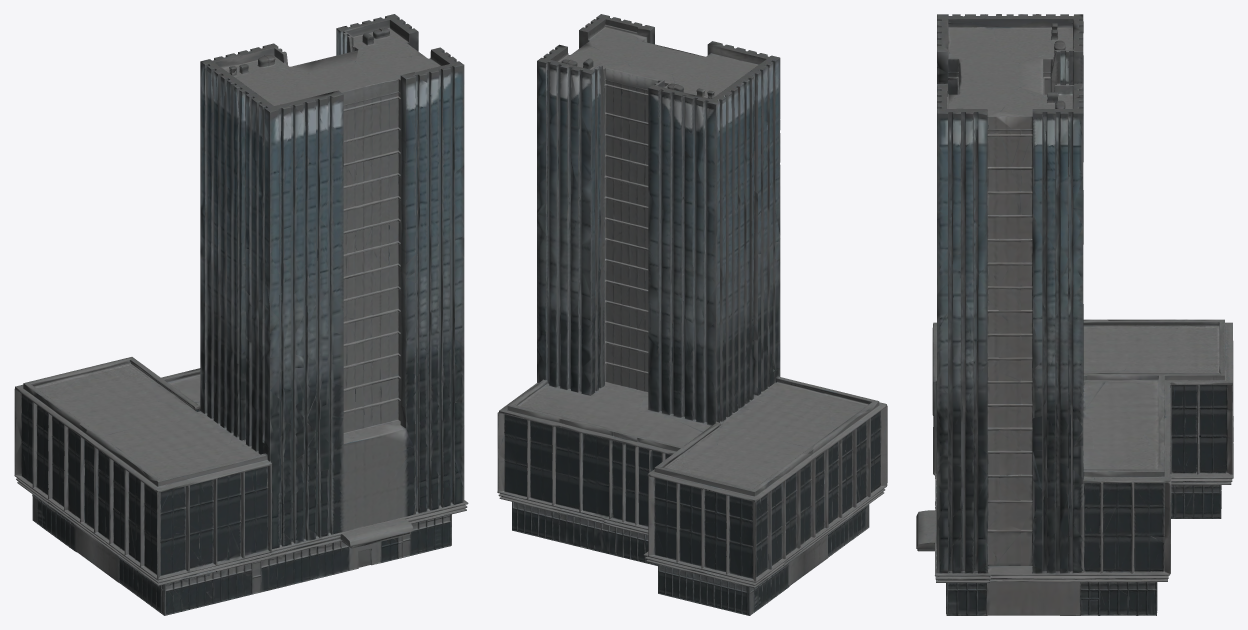
File: dusk-glass-tower-detail.glb
3 views of the same model, side by side, from view 1: azimuth 30°, elevation 25°; view 2: azimuth 150°, elevation 25°; view 3: azimuth 270°, elevation 25° (orthographic). The views are drawn at different scales.
Size of the model in its own units: 1.29 by 1.9 by 1.08.
1 material, 1 textured.
